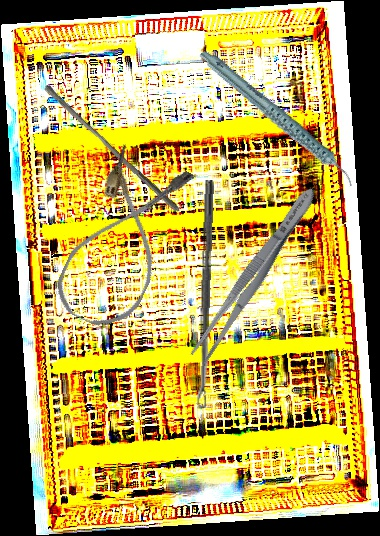Cannula: (47, 141, 199, 339)
Dressing Forceps: (186, 181, 324, 368)
Handpiece: (196, 24, 357, 215)
Pusher: (39, 83, 186, 214)
Surgical Spoon: (196, 179, 214, 409)
